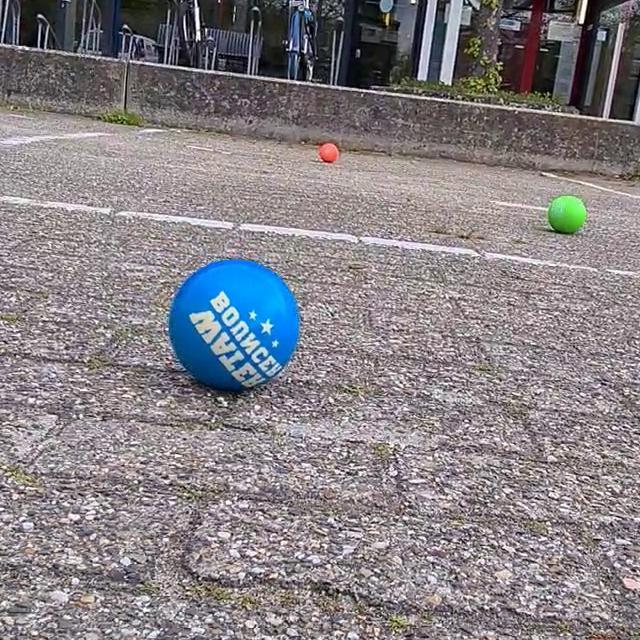ball: (546, 192, 588, 235), (318, 139, 340, 163)
